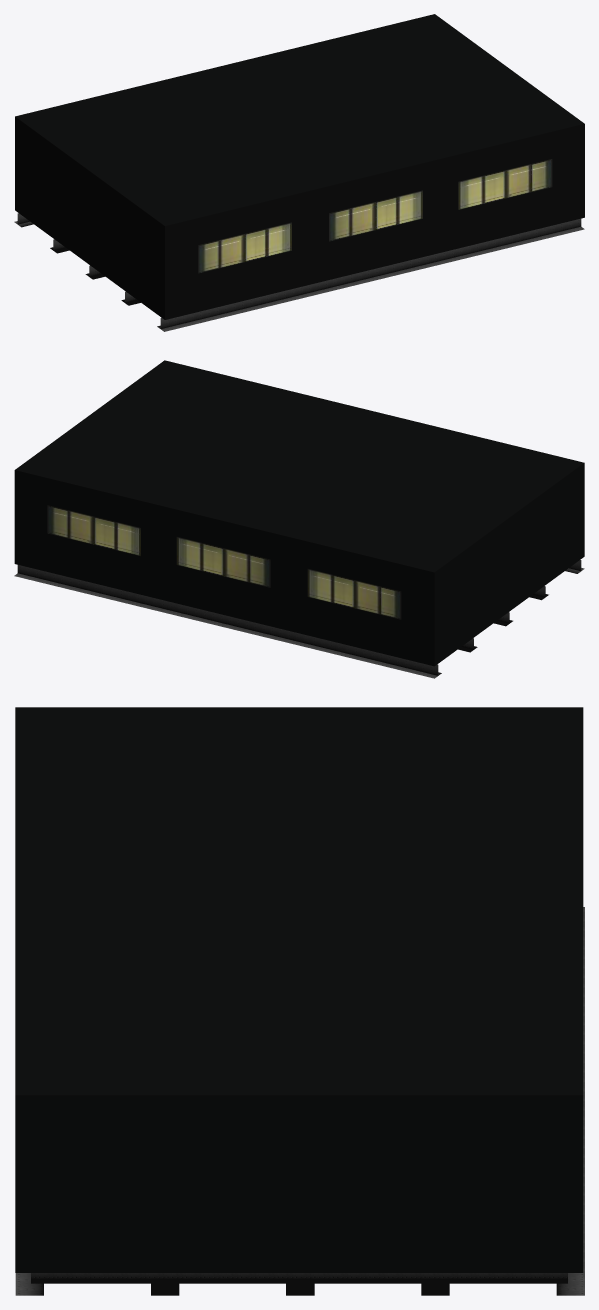
Rendered from AMB_ROKKO.glb.
The picture shows the model from 3 angles, top to bottom: view 1: azimuth 30°, elevation 25°; view 2: azimuth 150°, elevation 25°; view 3: azimuth 270°, elevation 25°; orthographic projection. The views are drawn at different scales.
Parts seen in each view (by area): view 1: BASE; view 2: BASE; view 3: BASE.
Part boxes in pixels (box(x1,y1,x2,y2)): BASE: box(14, 14, 584, 331); BASE: box(14, 360, 584, 678); BASE: box(15, 707, 584, 1295).
Size of the model in its own units: 78.2 by 18.77 by 48.55.
Materials: 4 (4 with a texture image).
